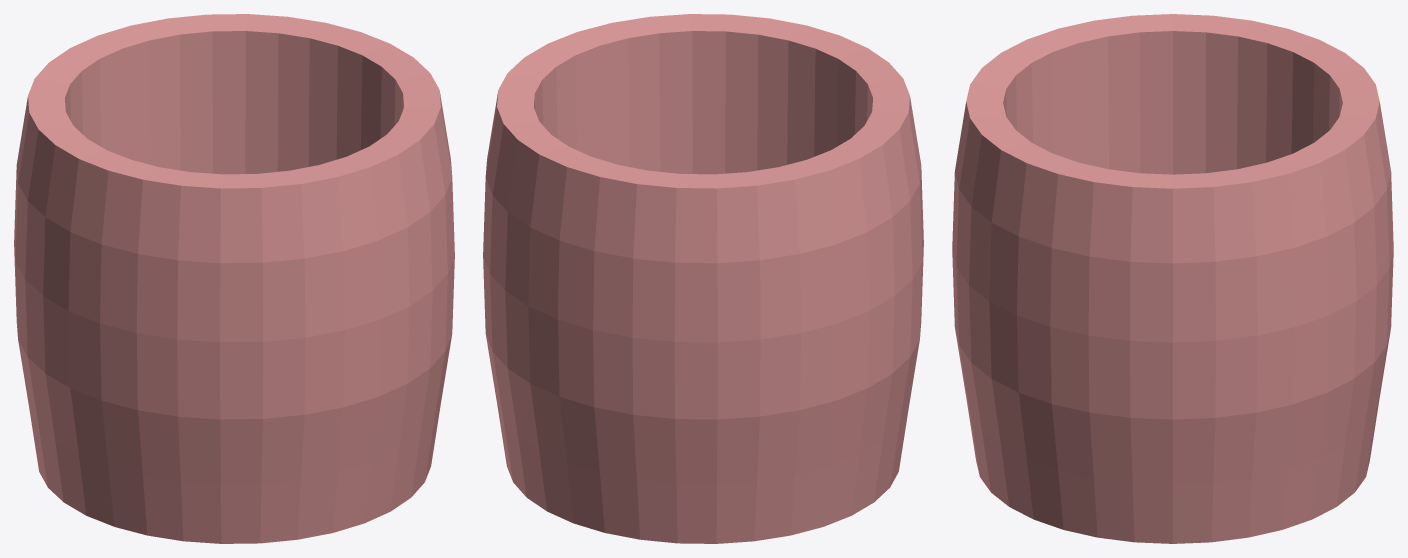
Rendered from glass2.fbx.
3 views of the same model, side by side, from view 1: azimuth 30°, elevation 25°; view 2: azimuth 150°, elevation 25°; view 3: azimuth 270°, elevation 25° (orthographic).
Parts seen in each view (by area): view 1: Cylinder; view 2: Cylinder; view 3: Cylinder.
Part boxes in pixels (<box>): Cylinder: <box>14,14,454,543</box>; Cylinder: <box>483,14,923,543</box>; Cylinder: <box>952,14,1393,543</box>.
Bounding box in the file's own units: 12.83 × 11.52 × 12.83.
